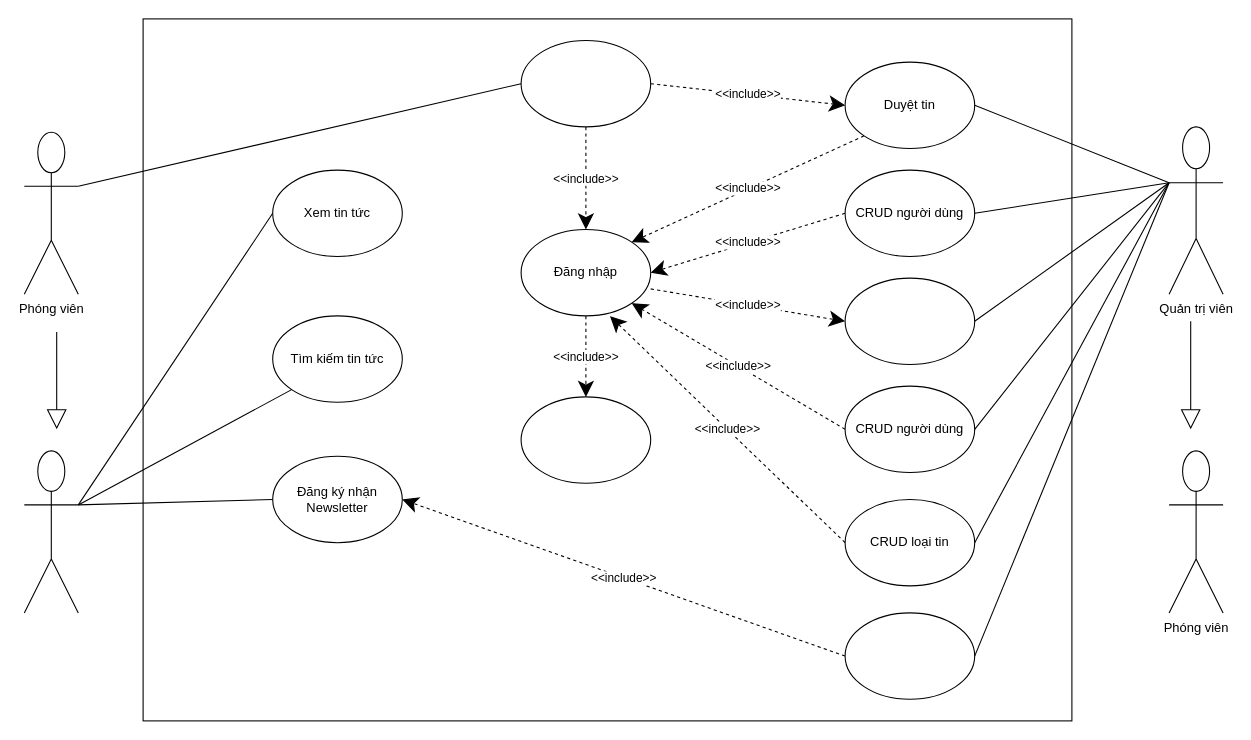
Image size: 1251x740. Some labels were removed from this diagram. Each missing label, with the box of its shape:
CRUD tin tức: (520, 39, 651, 127)
Duyệt tài khoản: (844, 277, 975, 364)
Gửi newsletter cho độc giả: (844, 612, 975, 699)
Đăng ký: (520, 396, 651, 483)
Độc giả: (23, 450, 78, 613)
